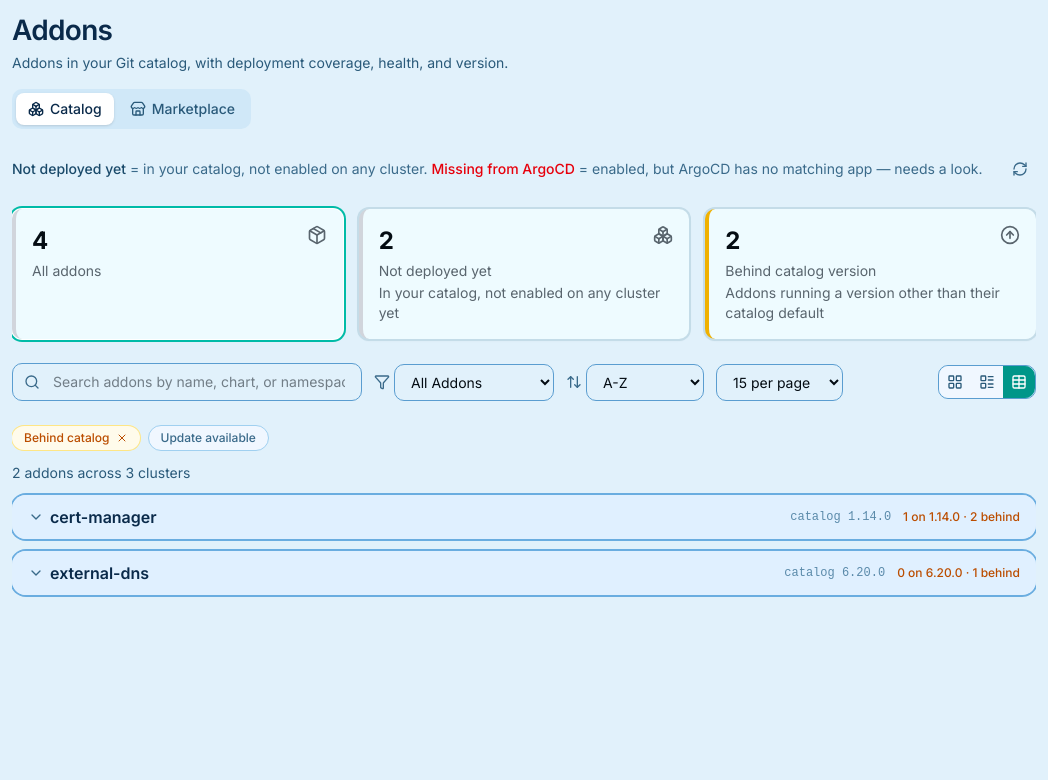
it: AddonCatalog — ?filter=behind-catalog lands on the addon-first list, pre-filtered (S6/S2) › dismissing the chip shows every addon again, including ones with no drift
Check: the text "Behind catalog" is shown, box [12, 426, 140, 450]
Click the button named "clear the behind catalog filter": [122, 438] box [116, 432, 128, 444]
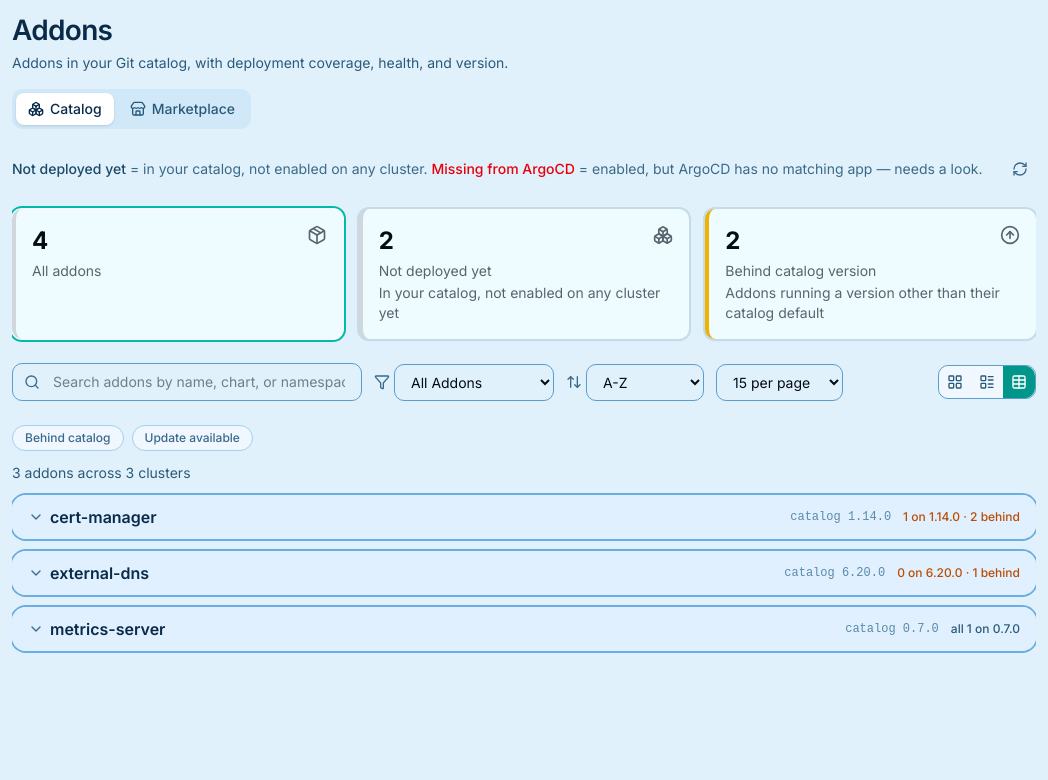
Check: the text "metrics-server" is shown, box [50, 617, 166, 641]
